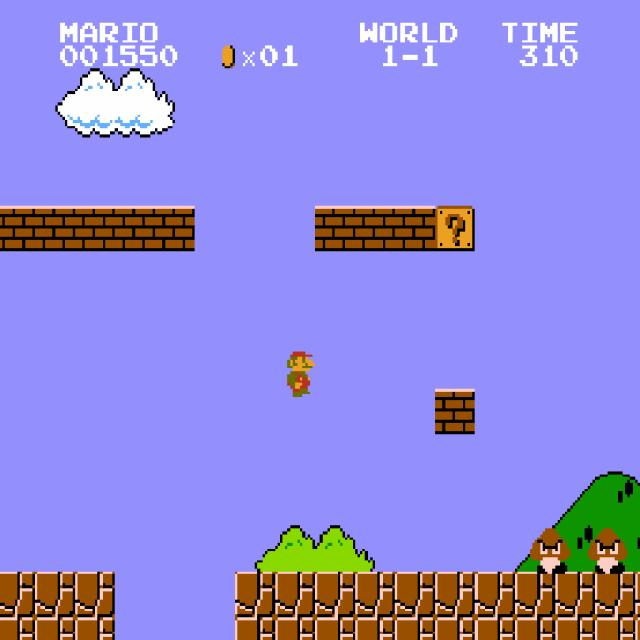brick_block: (35, 206, 75, 251), (75, 206, 115, 251), (115, 206, 155, 251), (155, 206, 195, 251), (315, 206, 355, 251), (355, 206, 395, 251), (395, 206, 435, 251), (435, 389, 475, 434), (0, 206, 35, 251)
goomba: (527, 526, 570, 574), (585, 526, 628, 574)
little_mario: (277, 348, 320, 397)
mystery_block: (435, 206, 475, 251)
undestructible_block: (35, 572, 75, 617), (75, 572, 115, 617), (235, 572, 275, 617), (275, 572, 315, 617), (315, 572, 355, 617), (355, 572, 395, 617), (395, 572, 435, 617), (435, 572, 475, 617), (475, 572, 515, 617), (515, 572, 555, 617), (555, 572, 595, 617), (595, 572, 635, 617), (0, 572, 35, 617), (35, 617, 75, 640), (75, 617, 115, 640), (235, 617, 275, 640), (275, 617, 315, 640), (315, 617, 355, 640), (355, 617, 395, 640), (395, 617, 435, 640), (435, 617, 475, 640), (475, 617, 515, 640), (515, 617, 555, 640), (555, 617, 595, 640), (595, 617, 635, 640), (0, 617, 35, 640), (635, 572, 640, 617), (635, 617, 640, 640)
